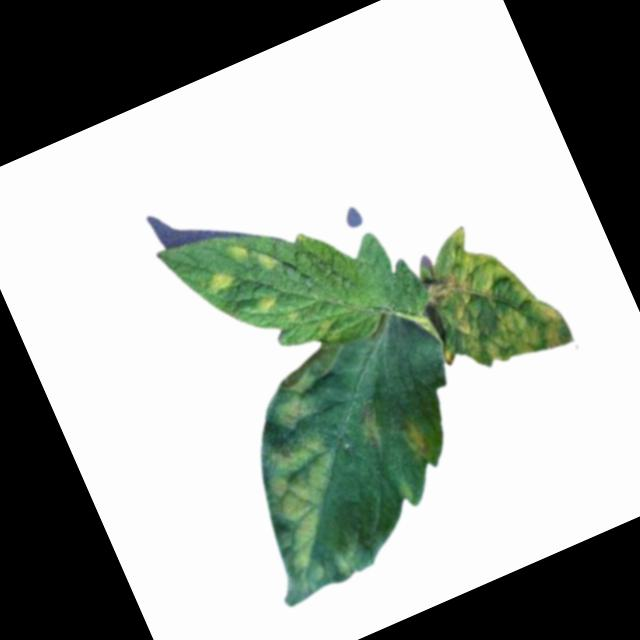Leaf_Mold: (225, 359, 388, 574), (398, 199, 577, 389), (224, 228, 281, 285), (399, 415, 434, 464), (206, 266, 237, 298), (255, 289, 285, 318)
